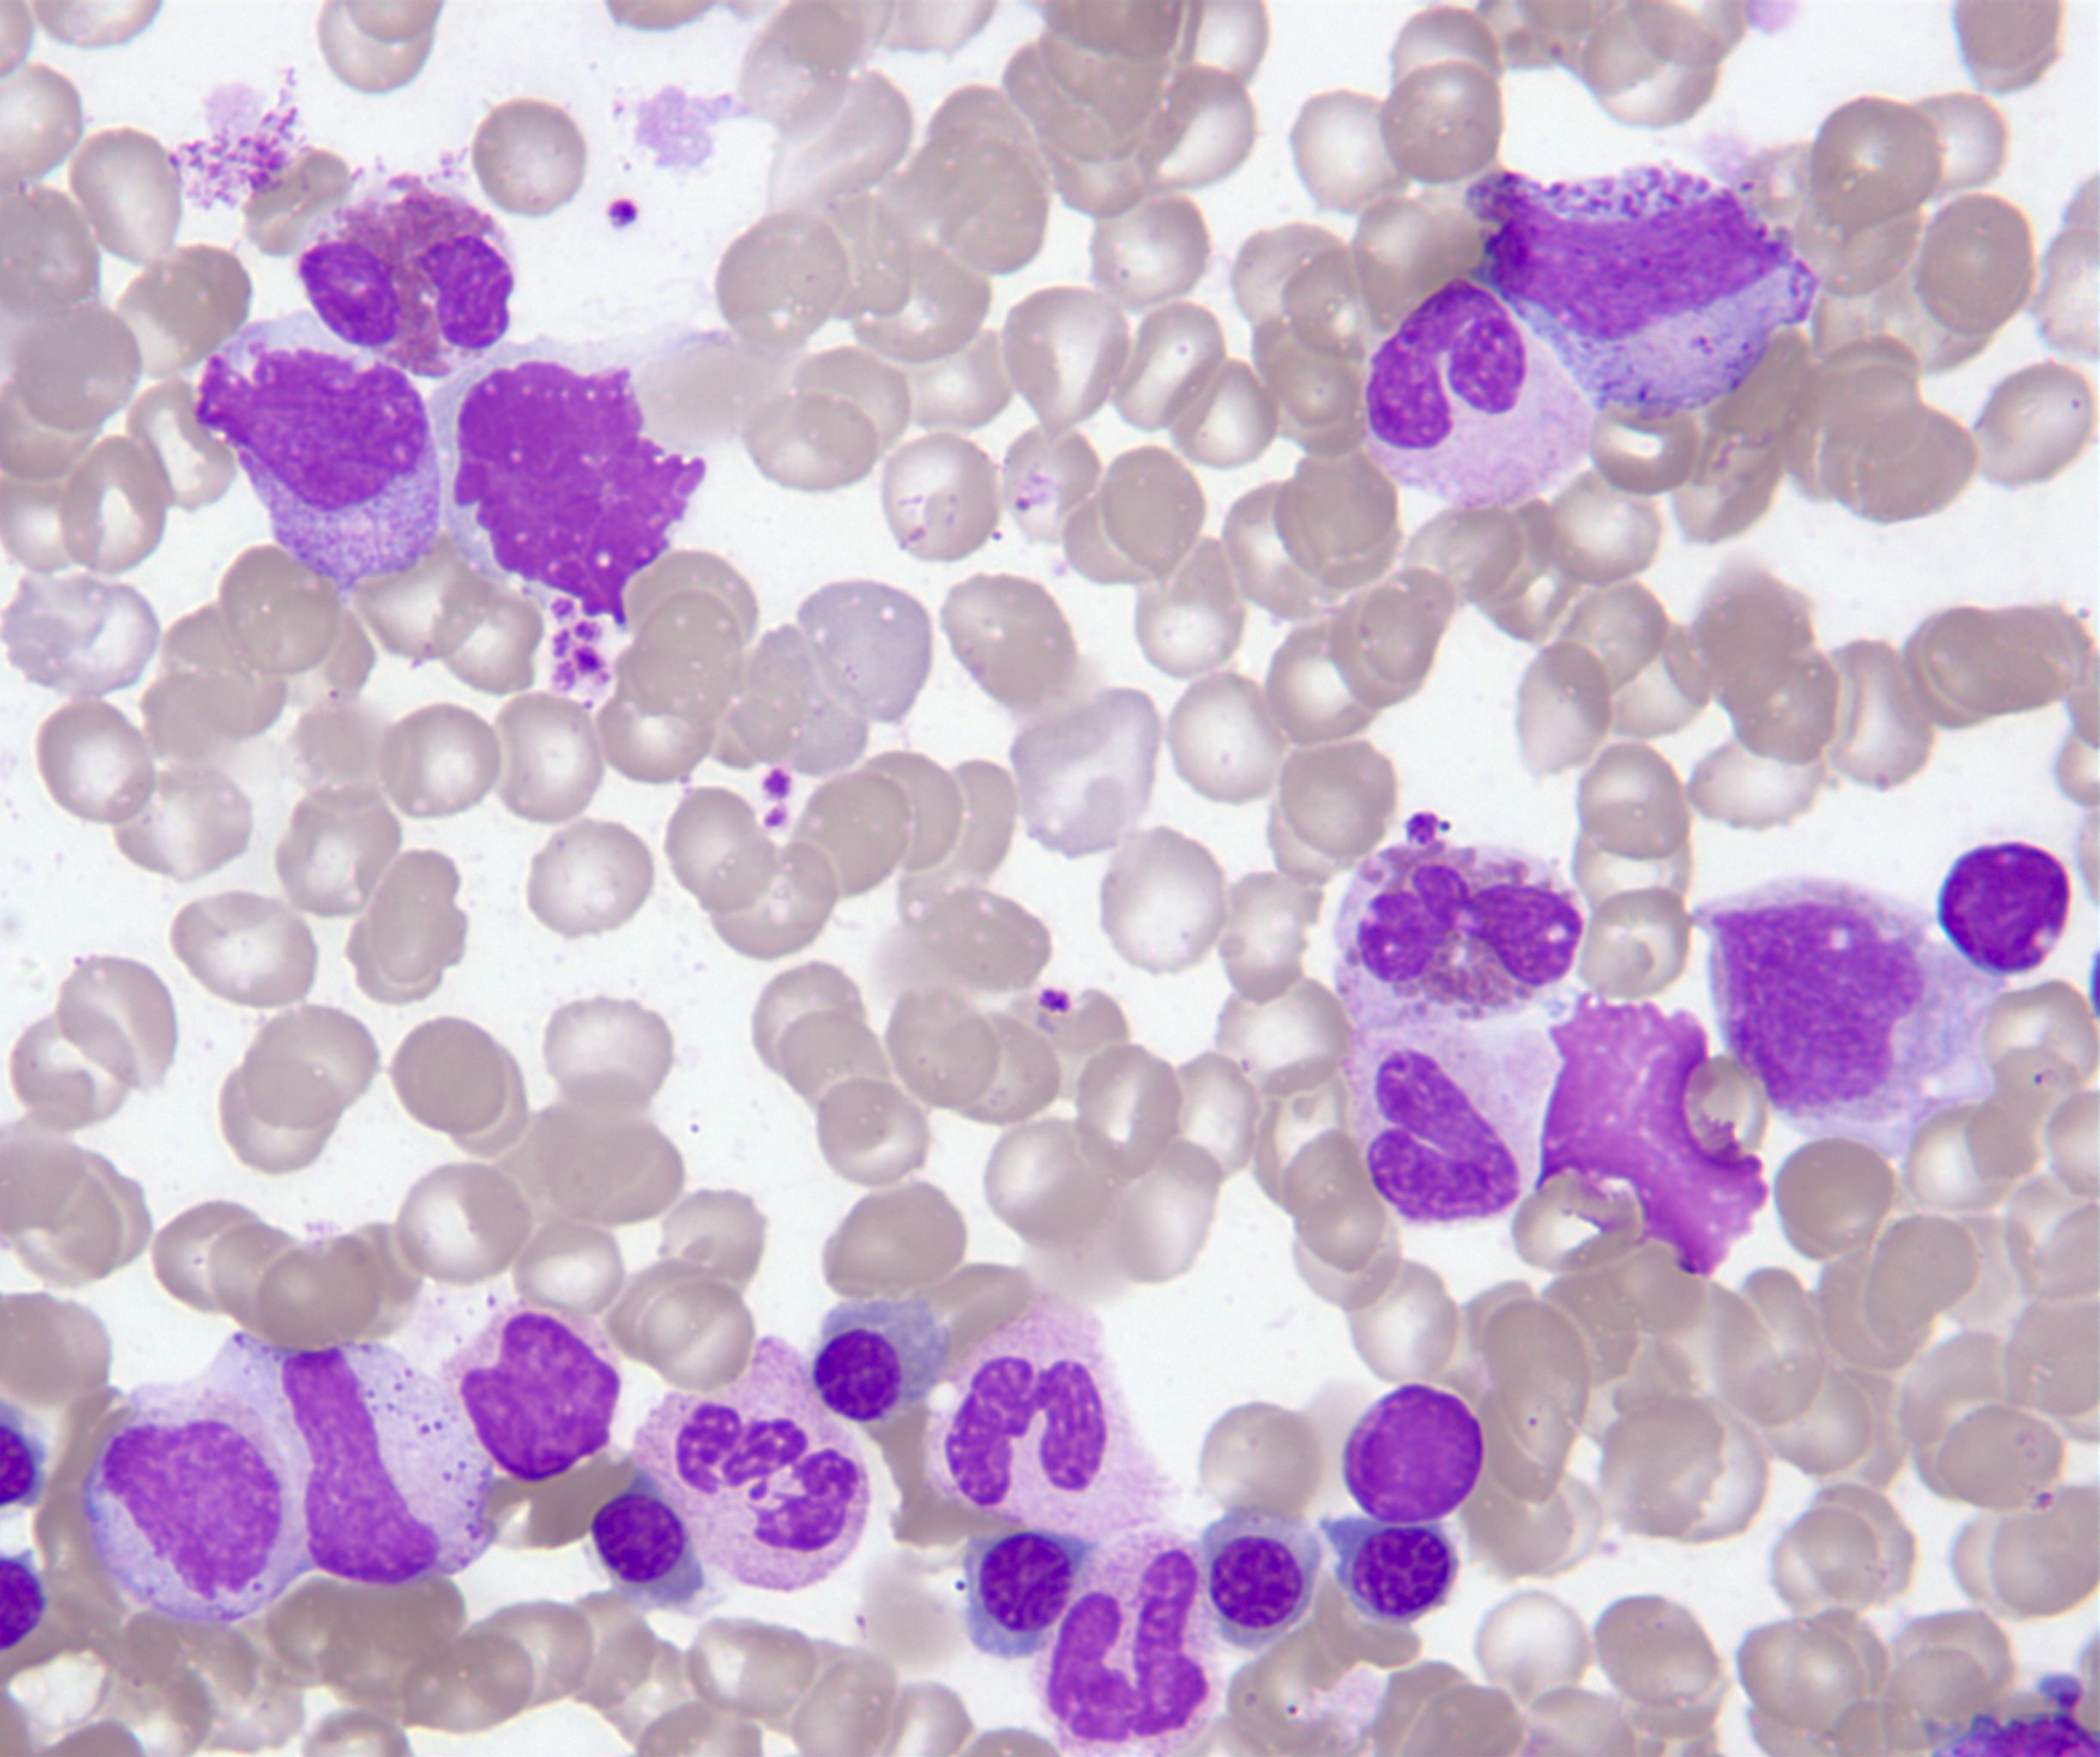24: (930, 1525, 1102, 1663), (1190, 1499, 1326, 1652), (811, 1293, 966, 1425), (579, 1469, 712, 1610), (1322, 1518, 1465, 1628)
3: (1462, 152, 1826, 417), (1688, 871, 2013, 1146), (192, 302, 452, 597), (267, 1338, 509, 1593), (77, 1385, 309, 1637)
32: (1931, 832, 2077, 986)
4: (440, 1289, 635, 1492)
5: (1352, 267, 1605, 515), (1336, 1028, 1538, 1228)
6: (633, 1328, 876, 1596), (919, 1284, 1176, 1535), (1029, 1528, 1226, 1757)
E4: (1322, 801, 1601, 1029), (297, 164, 532, 389)
x: (1336, 1380, 1490, 1527)
